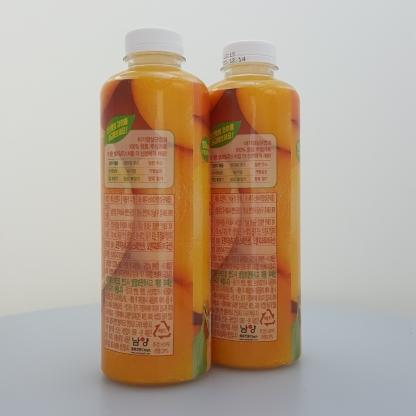-------730ML: (100, 28, 212, 385), (200, 39, 301, 370)
